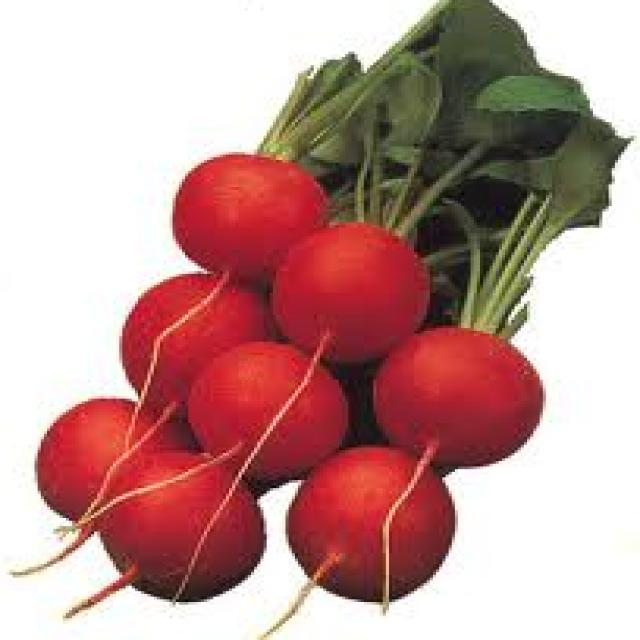radish: (7, 0, 624, 640)
